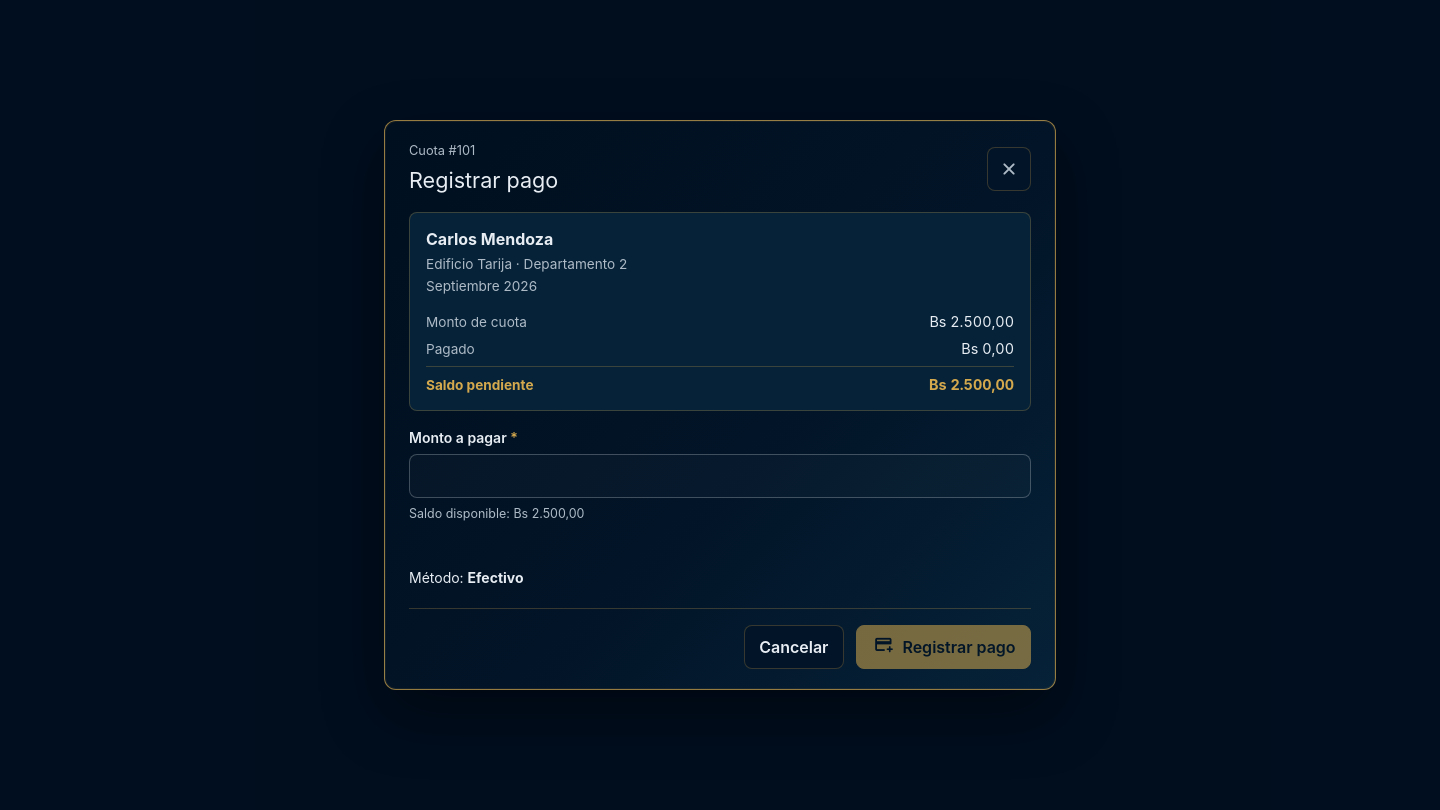
Scenario: RegistrarPagoModalComponent › maps HTTP 403 to an authorization message without exposing backend details
Type "500" into the field labelled "Monto a pagar *" at (720, 476), box [409, 454, 1031, 498]
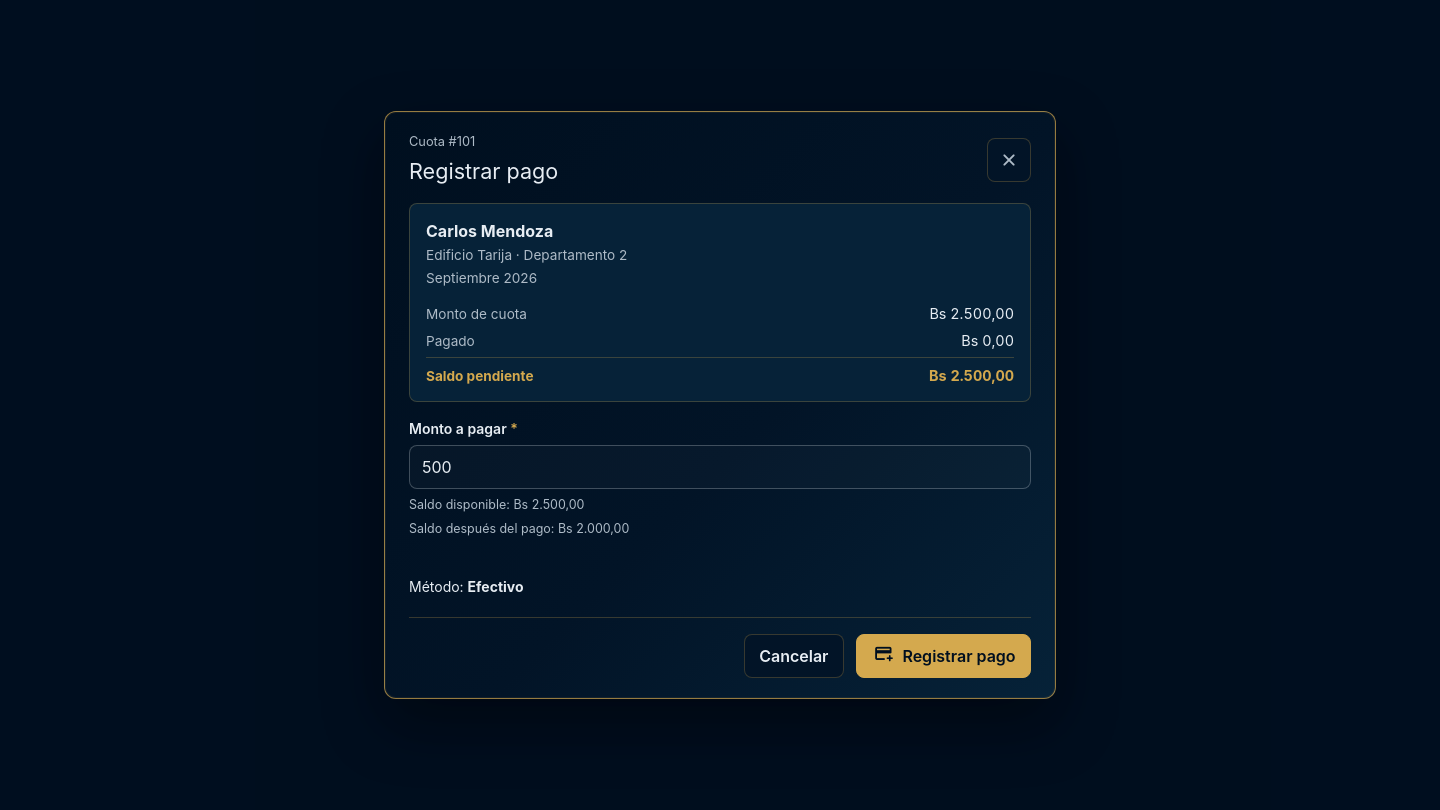
Click the button with id "register-payment-submit" at (943, 656), box [856, 634, 1031, 678]
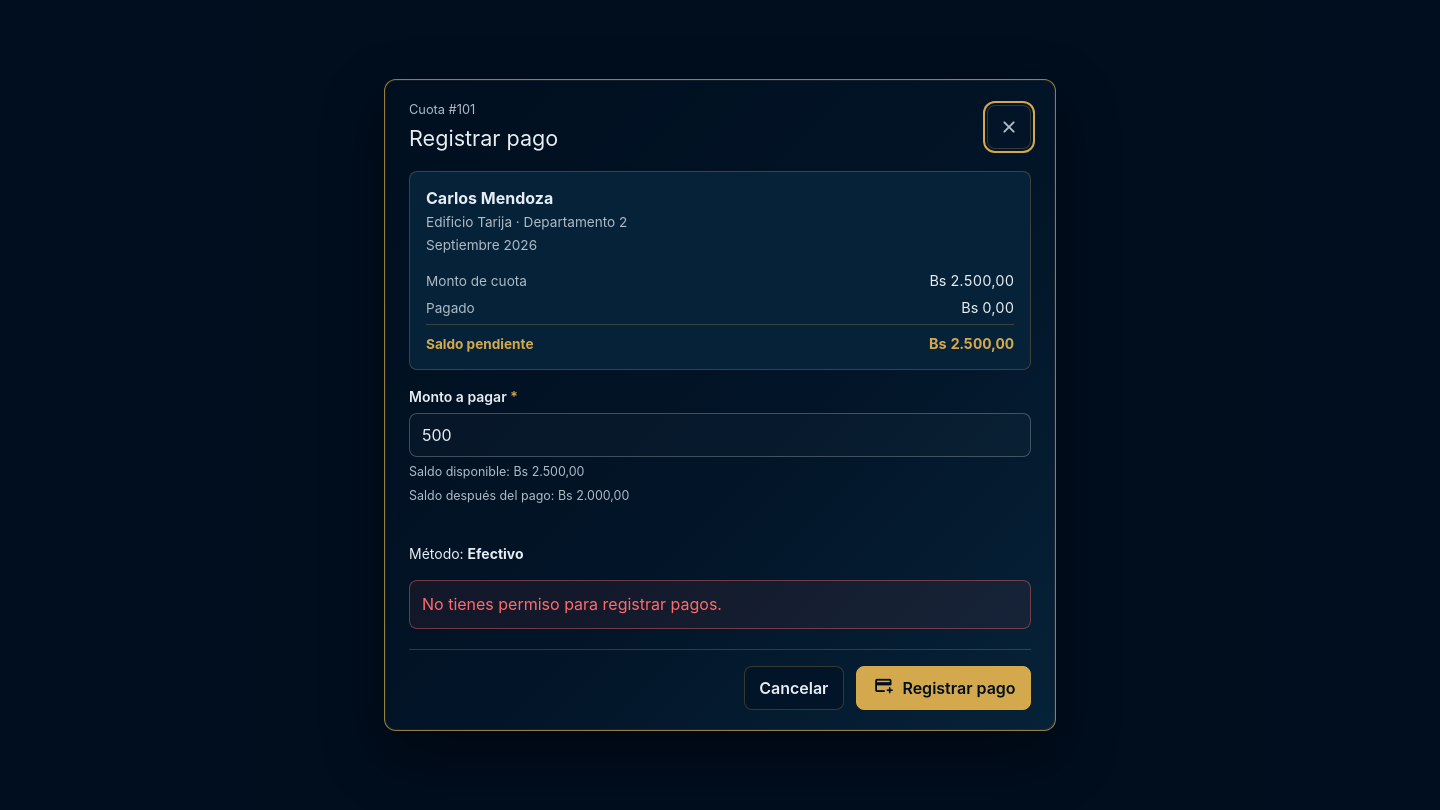
Check: the text "No tienes permiso para registrar pagos." is shown, box [409, 580, 1031, 629]
